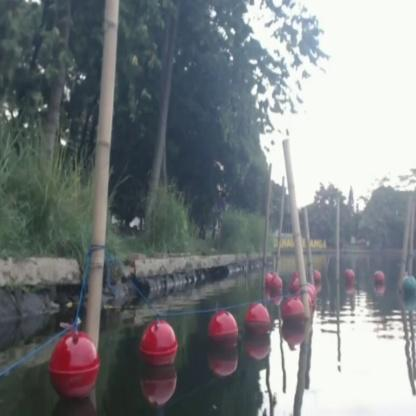green_buoy: (402, 275, 415, 303)
red_buoy: (50, 338, 99, 394), (142, 321, 176, 372), (206, 316, 238, 358), (282, 300, 306, 339), (248, 308, 268, 344), (343, 264, 357, 290), (273, 272, 284, 298), (373, 270, 384, 290), (314, 268, 322, 286), (264, 270, 271, 290)
